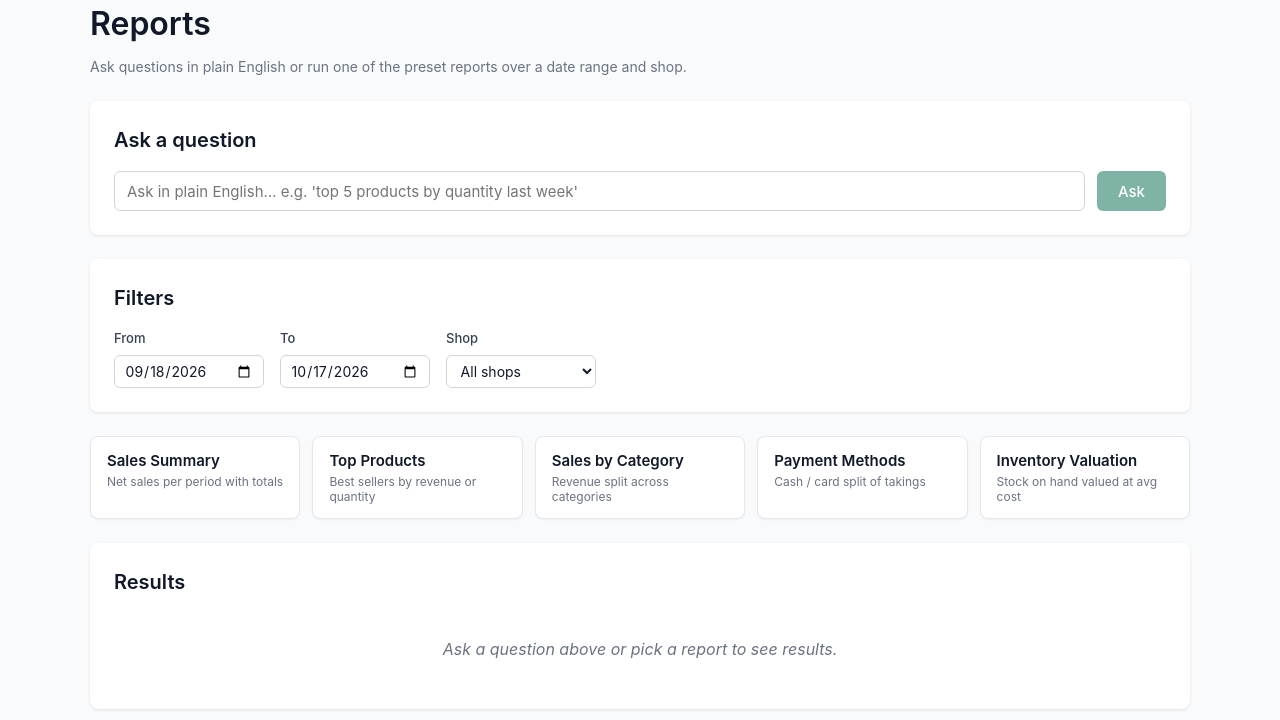
Test: Reports page › hides the date controls for inventory valuation and ignores them in the request
expect the date field labelled "From" is shown: met, box [114,355,264,388]
Click the button "Inventory Valuation Stock on hand valued at avg cost" at point(1085, 478), box [980,436,1190,520]
(page scrolled)
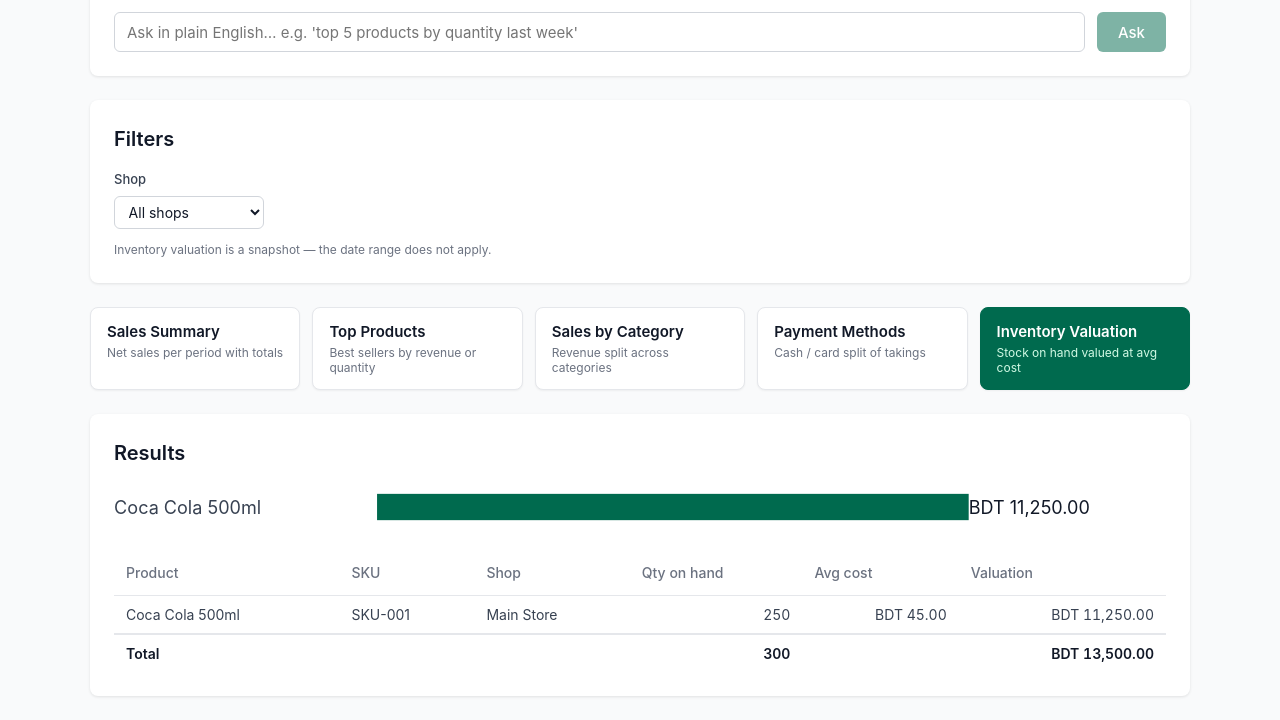
expect the label labelled "From" is gone: met
expect the text "BDT 11,250.00" is shown: met, box [959,596,1166,634]
expect the text "BDT 13,500.00" is shown: met, box [959,634,1166,672]
